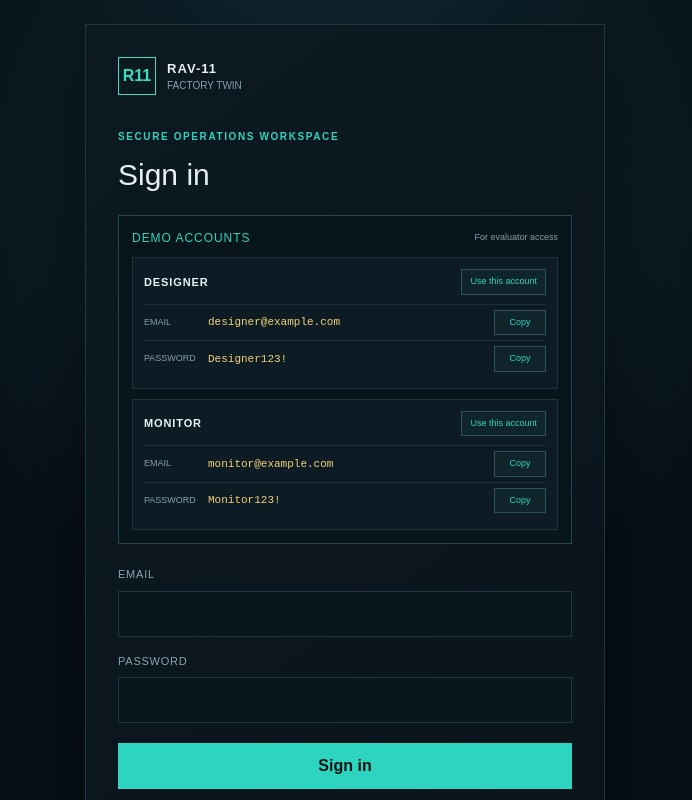
Scenario: LoginForm › shows a generic error when authentication fails
Type "designer@example.com" into the field labelled "Email". click: (345, 614)
box: [118,590,572,636]
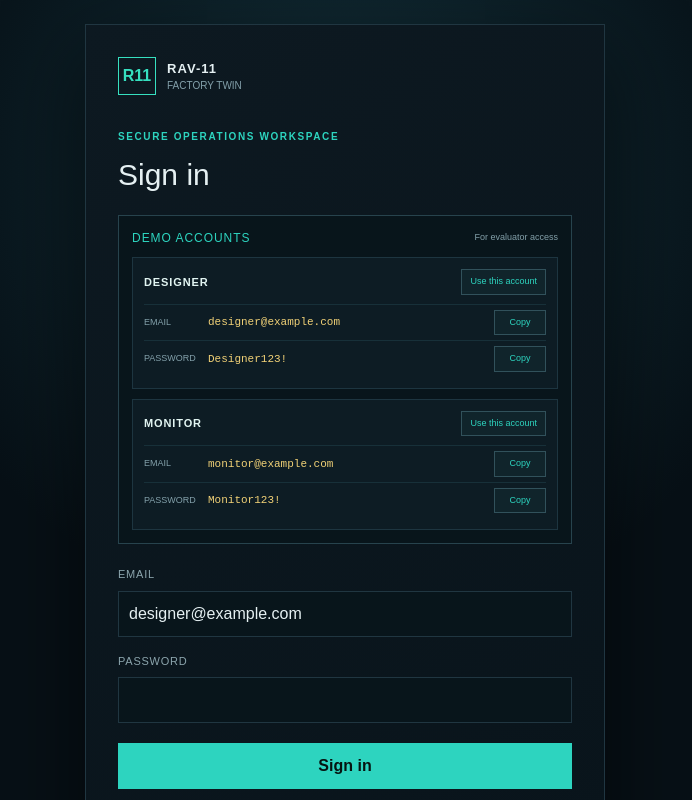
Type "wrong" into the password field labelled "Password". click: (345, 700)
box: [118,677,572,723]
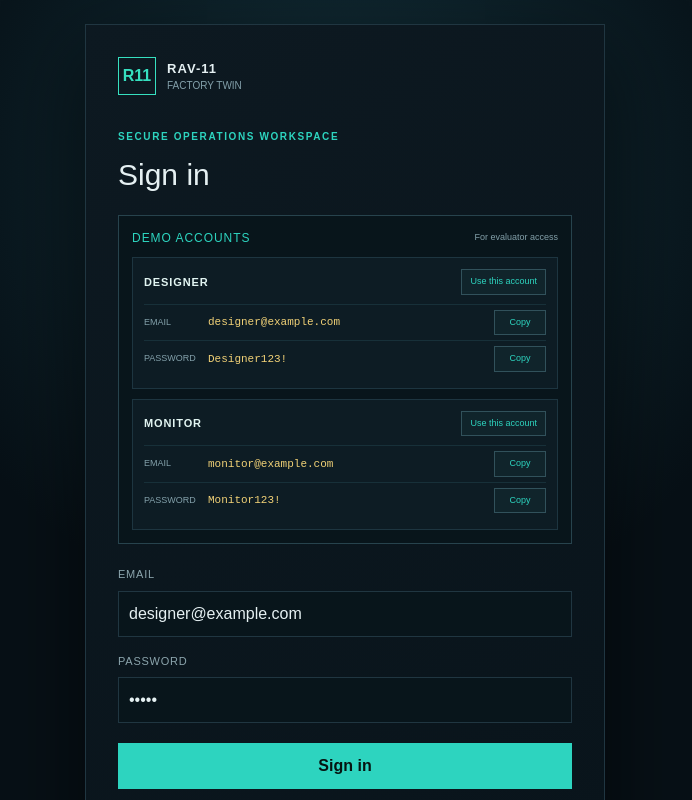
Submit the form "Sign in", box [118,566,572,789]
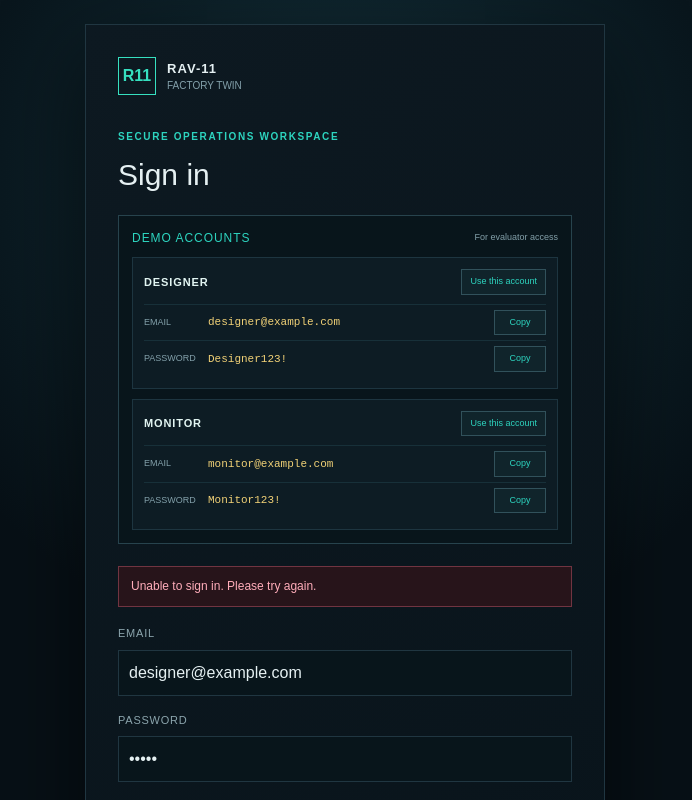
Now the message reads "Unable to sign in. Please try again.", box [131,579,316,593]
